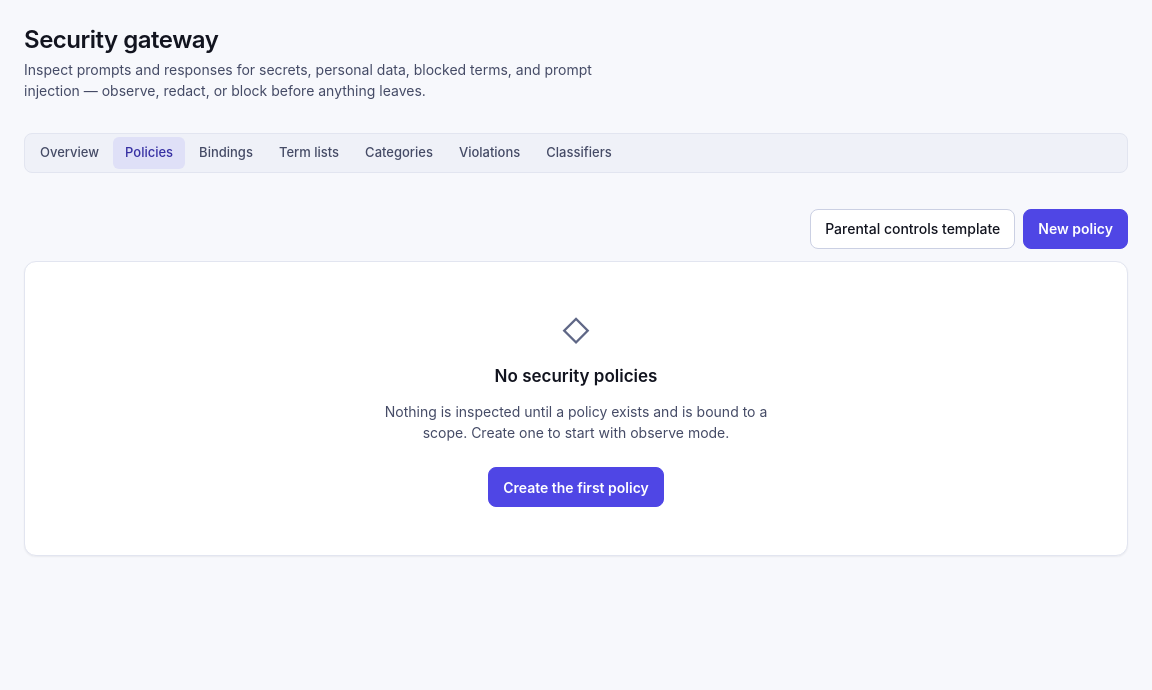
Test: Business upsells › enables Block with a Business key
Click the button "New policy" at (1076, 229), box x1=1023 y1=209 x2=1128 y2=249
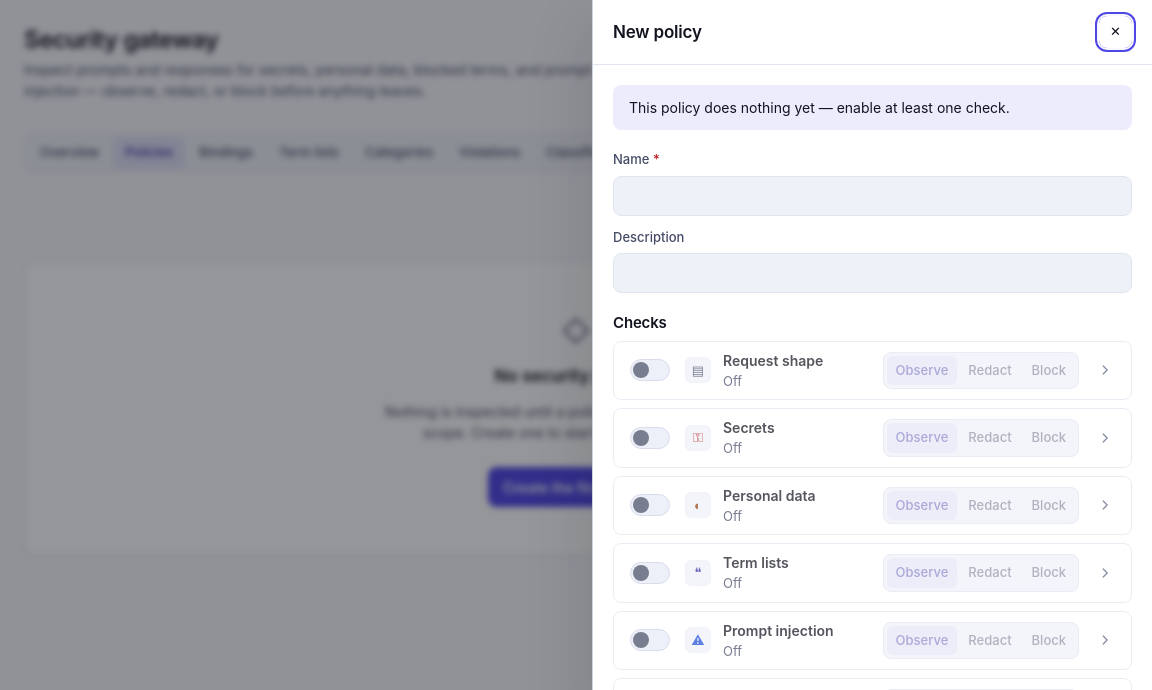
Click the checkbox named "Secrets: Enabled" at (650, 438), box x1=630 y1=427 x2=670 y2=449
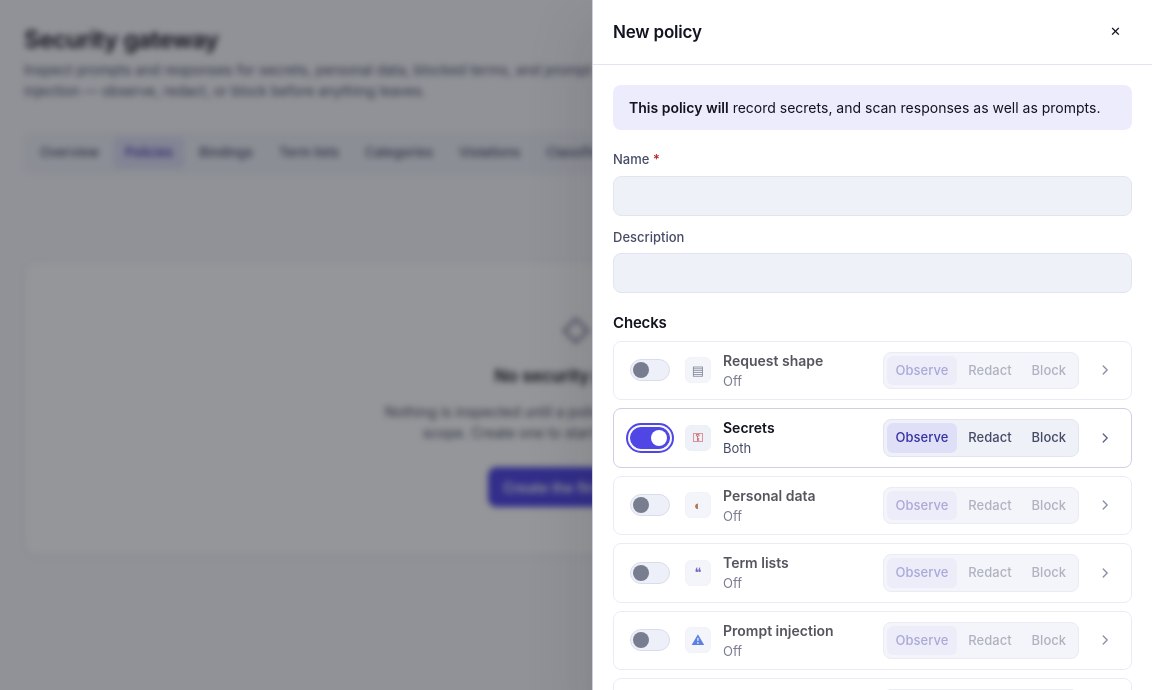
Expected: the button "Block" in the row of "Both" is enabled, x1=1023 y1=423 x2=1075 y2=452
